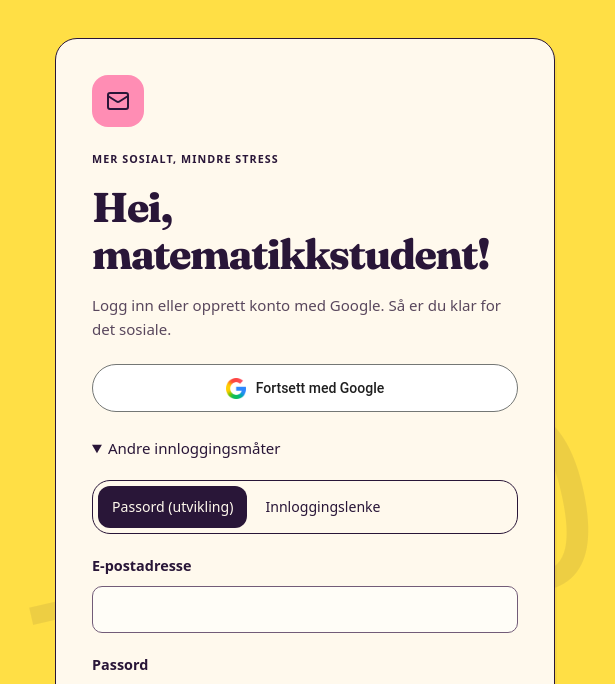
Test: development-only password sign-in › exposes only valid diagnostic metadata and never raw error or credential fields
Type "student@example.test" into the field labelled "E-postadresse" at (305,609), box [92, 586, 518, 633]
(page scrolled)
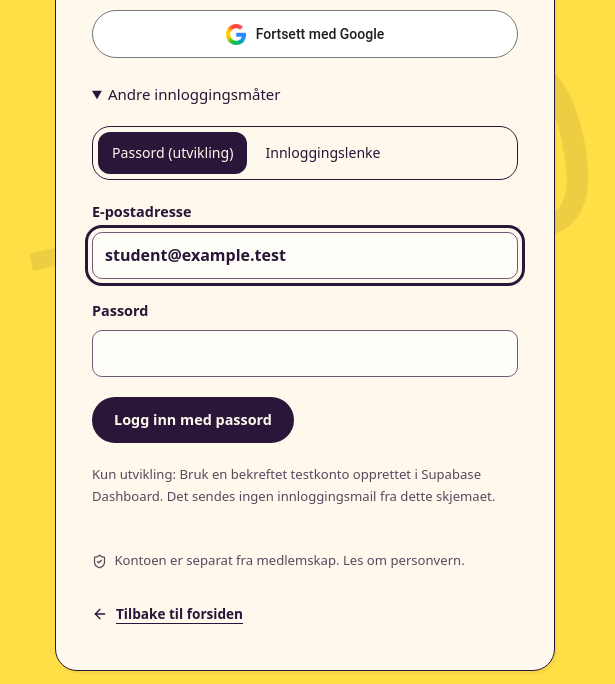
Type "local-password" into the password field labelled "Passord" at (305,353), box [92, 330, 518, 377]
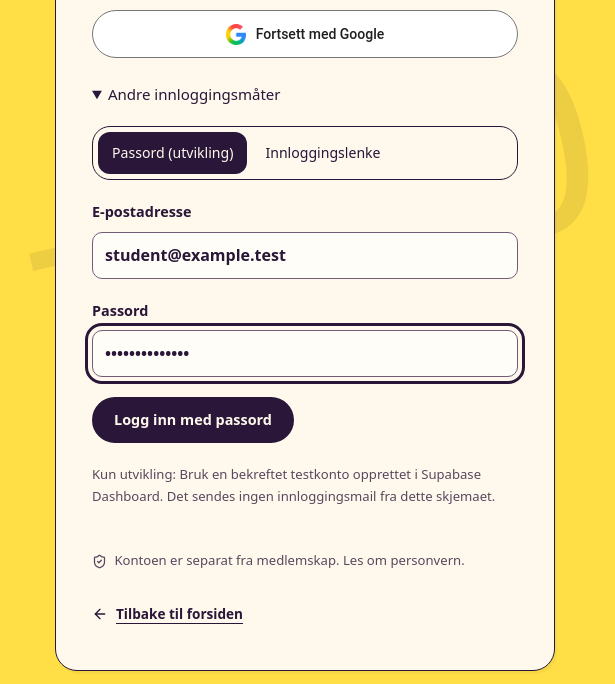
Click the button "Logg inn med passord" at (193,420), box [92, 397, 294, 443]
(page scrolled)
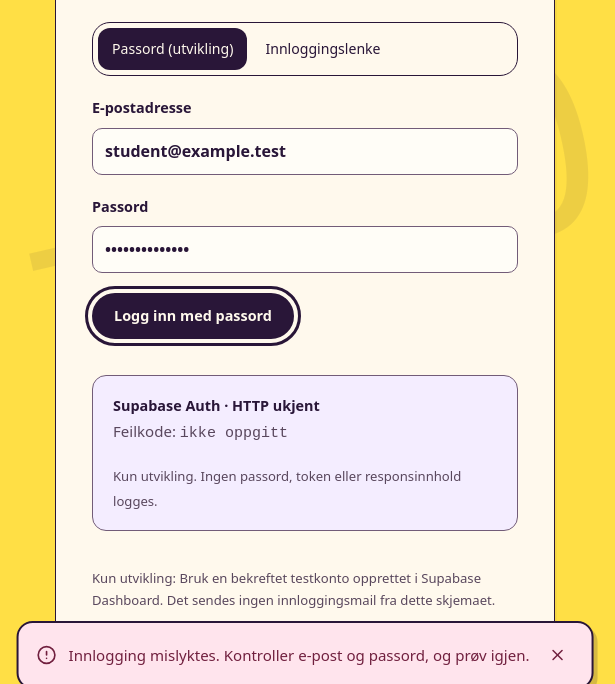
Check: the message named "Supabase Auth-diagnostikk" shows "HTTP ukjent", box [92, 375, 518, 531]
Check: the message named "Supabase Auth-diagnostikk" shows "ikke oppgitt", box [180, 424, 288, 442]
